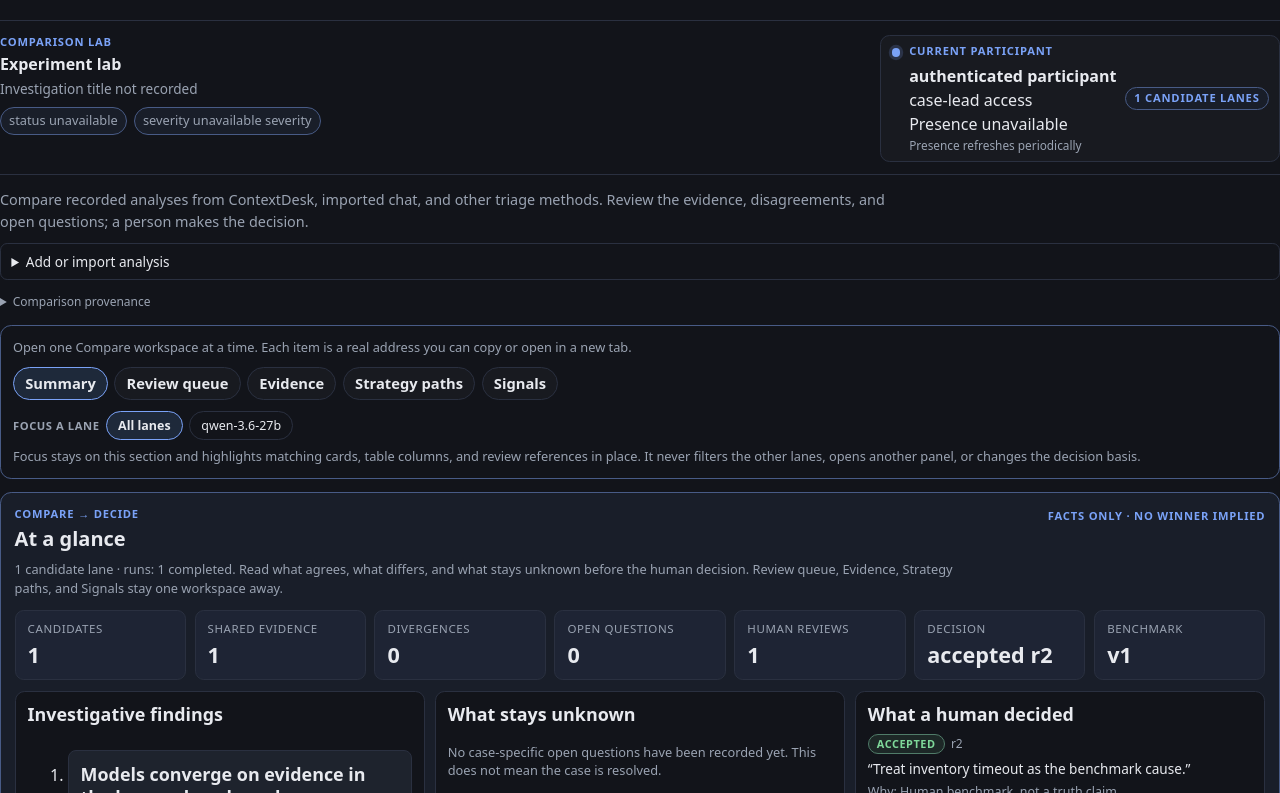
Test: experiment lab › renders gold provenance separately from helpfulness and alignment
The image size is (1280, 793).
Click the link "Signals". click: (520, 384)
box: 482,367 -> 558,400
(page scrolled)
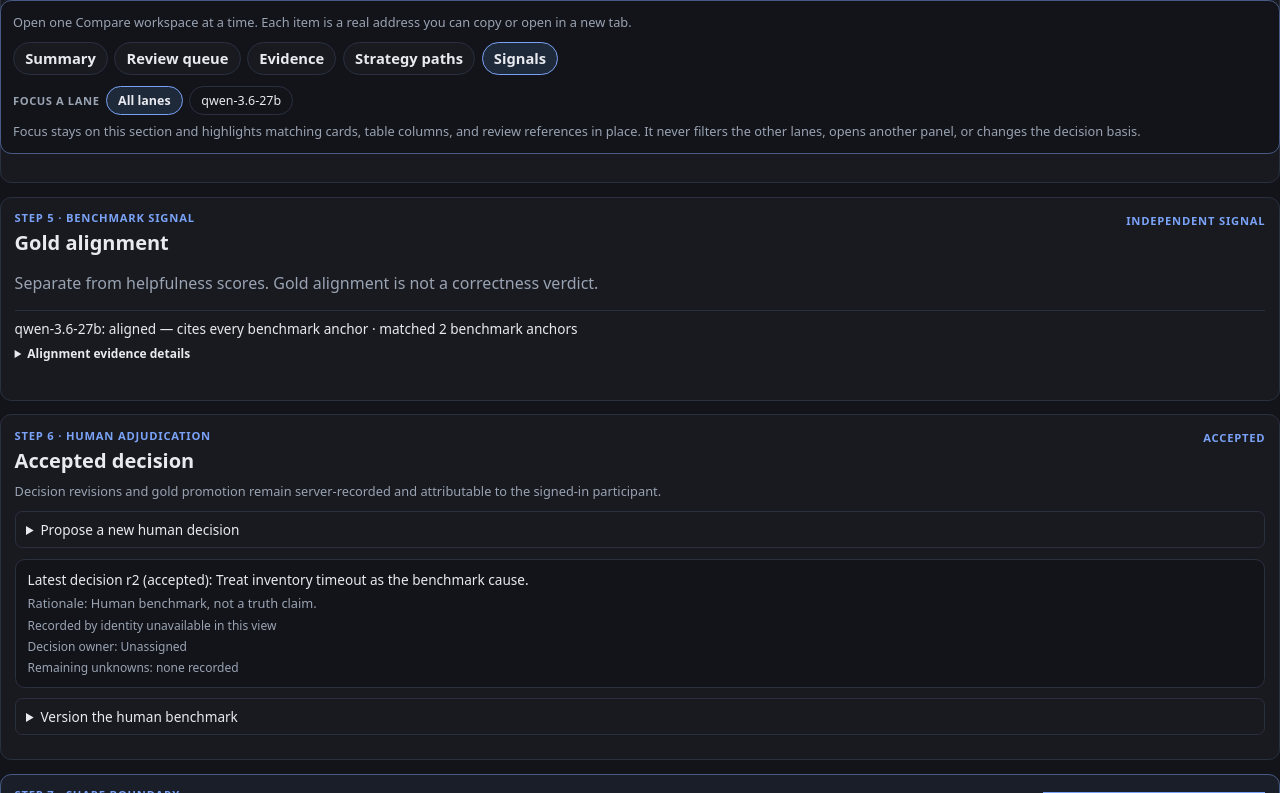
Check: the list item "Helpfulness: dave scored qwen-3.6-27b evidence support 3/3" is shown, box 33,128 -> 1265,163
Check: the heading "Gold alignment" is shown, box 15,230 -> 195,256
Check: the text "qwen-3.6-27b: aligned — cites every benchmark anchor" is shown, box 15,319 -> 578,338
